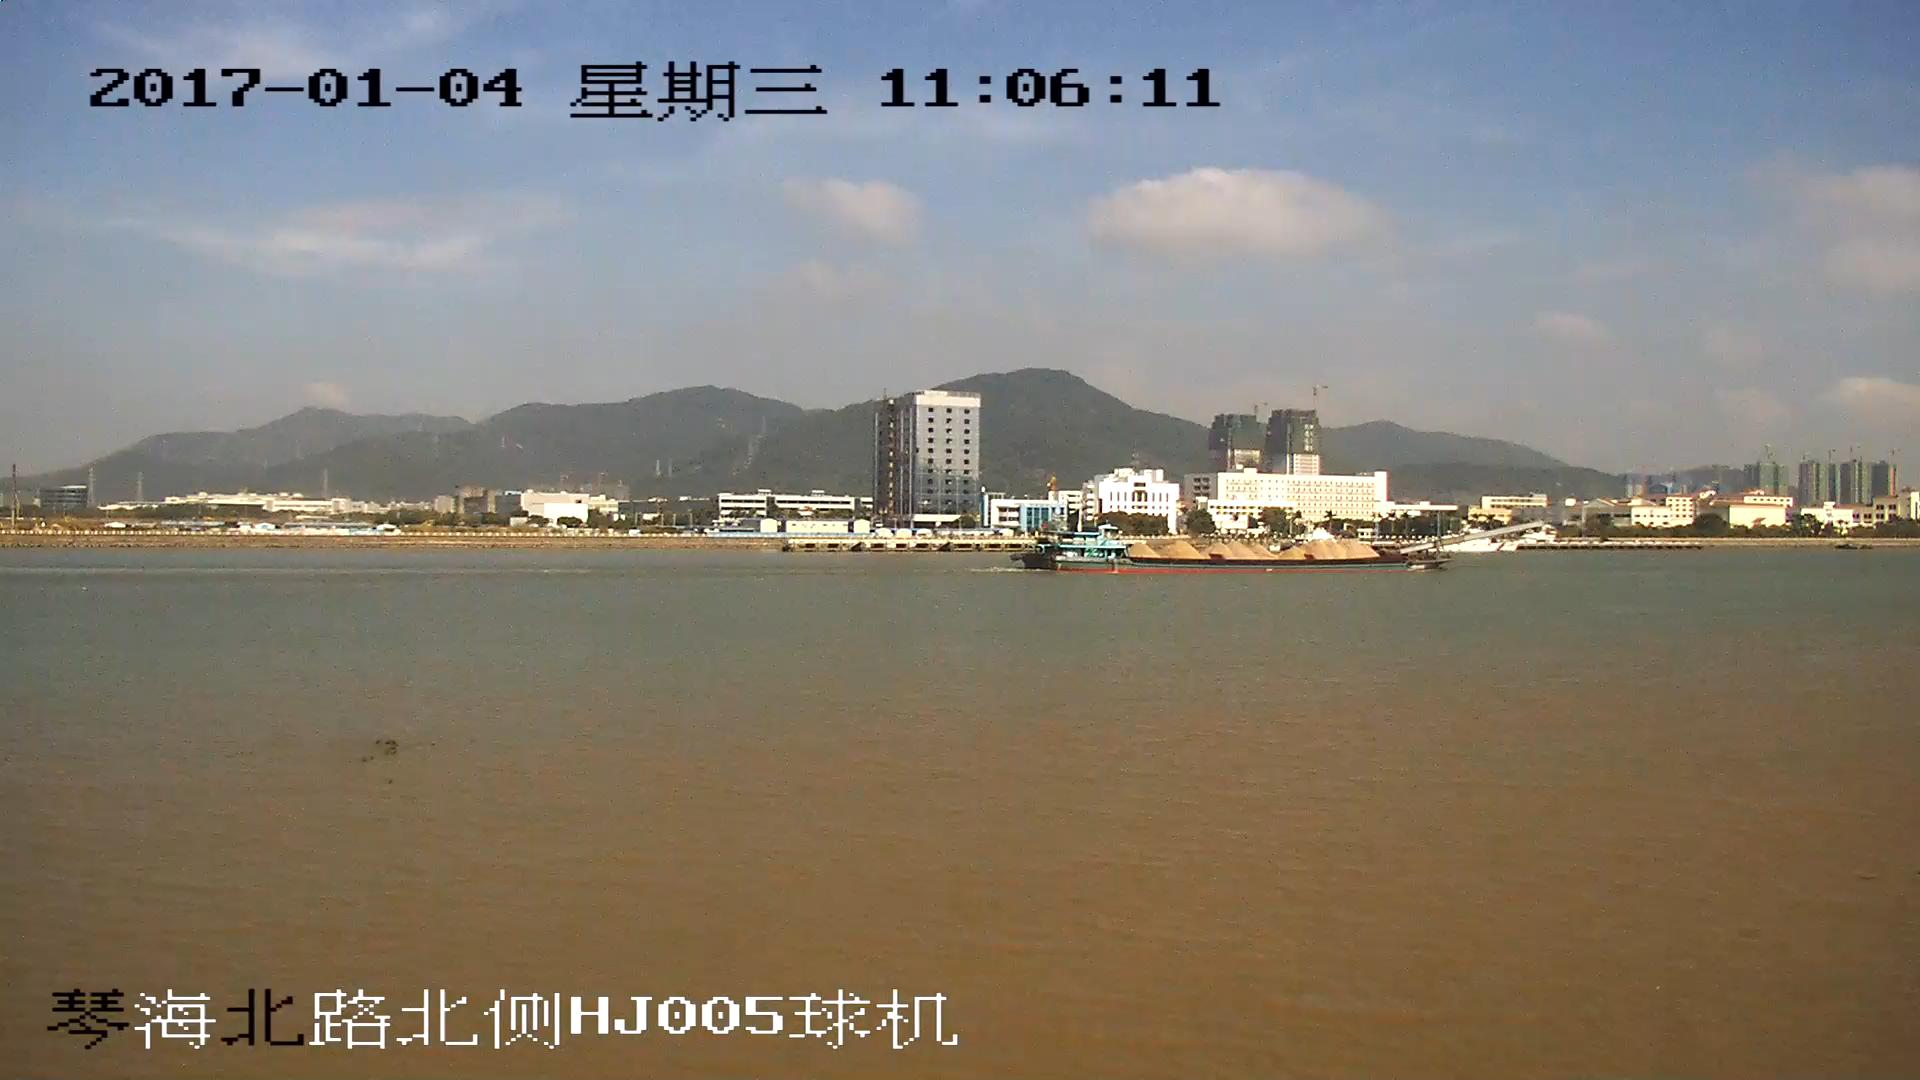ore carrier: (1022, 518, 1542, 577)
